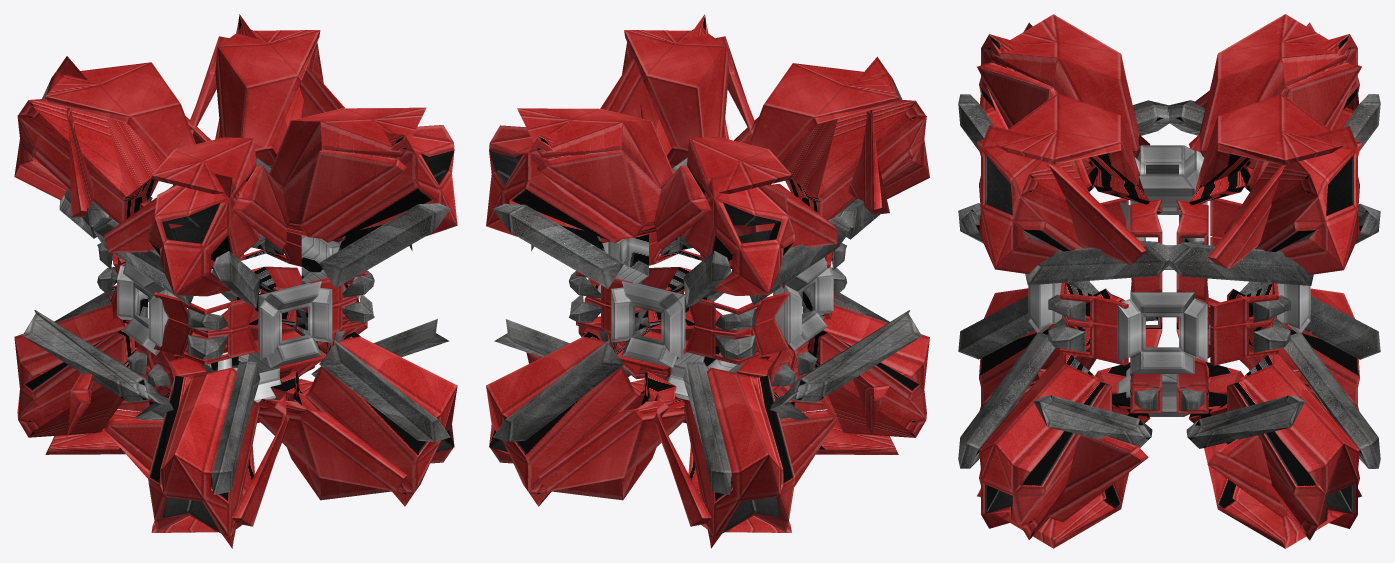
Rendered from Boss_destroyed.FBX.
The picture shows the model from 3 angles, left to right: view 1: azimuth 30°, elevation 25°; view 2: azimuth 150°, elevation 25°; view 3: azimuth 270°, elevation 25°; orthographic projection. The views are drawn at different scales.
Parts seen in each view (by area): view 1: Kusok_093, Kusok_055, Kusok_091, Kusok_041, Kusok_029, Kusok_018, Kusok_043, Kusok_033, Kusok_0, Kusok_081, Kusok_045, Kusok_021 (+42 smaller); view 2: Kusok_0, Kusok_043, Kusok_1, Kusok_053, Kusok_065, Kusok_078, Kusok_055, Kusok_069, Kusok_093, Kusok_057, Kusok_021, Kusok_081 (+42 smaller); view 3: Kusok_091, Kusok_1, Kusok_055, Kusok_043, Kusok_057, Kusok_045, Kusok_030, Kusok_066, Kusok_097, Kusok_069, Kusok_033, Kusok_035 (+49 smaller).
Part boxes in pixels (box(x1,y1,x2,y2)): Kusok_093: box(17, 56, 162, 223); Kusok_055: box(215, 30, 320, 167); Kusok_091: box(45, 62, 195, 185); Kusok_041: box(282, 149, 406, 239); Kusok_029: box(257, 399, 406, 491); Kusok_018: box(159, 367, 236, 499); Kusok_043: box(269, 107, 426, 187); Kusok_033: box(305, 331, 454, 506); Kusok_0: box(148, 174, 259, 268); Kusok_081: box(17, 329, 154, 437); Kusok_045: box(322, 125, 454, 242); Kusok_021: box(148, 375, 259, 548); Kusok_0: box(782, 56, 926, 220); Kusok_043: box(624, 30, 728, 167); Kusok_1: box(749, 63, 898, 184); Kusok_053: box(536, 150, 661, 239); Kusok_065: box(536, 399, 685, 491); Kusok_078: box(706, 367, 783, 499); Kusok_055: box(517, 108, 673, 187); Kusok_069: box(489, 331, 637, 506); Kusok_093: box(683, 173, 795, 268); Kusok_057: box(489, 125, 621, 242); Kusok_021: box(785, 330, 926, 437); Kusok_081: box(683, 375, 795, 548); Kusok_091: box(1189, 14, 1349, 157); Kusok_1: box(989, 14, 1150, 158); Kusok_055: box(1189, 94, 1343, 205); Kusok_043: box(995, 93, 1149, 204); Kusok_057: box(1224, 126, 1359, 251); Kusok_045: box(979, 125, 1090, 251); Kusok_030: box(979, 353, 1099, 493); Kusok_066: box(1239, 354, 1359, 493); Kusok_097: box(1117, 292, 1207, 373); Kusok_069: box(1227, 381, 1359, 540); Kusok_033: box(979, 381, 1111, 539); Kusok_035: box(1048, 435, 1148, 522).
Bounding box in the file's own units: 4.11 × 4.7 × 4.38.
